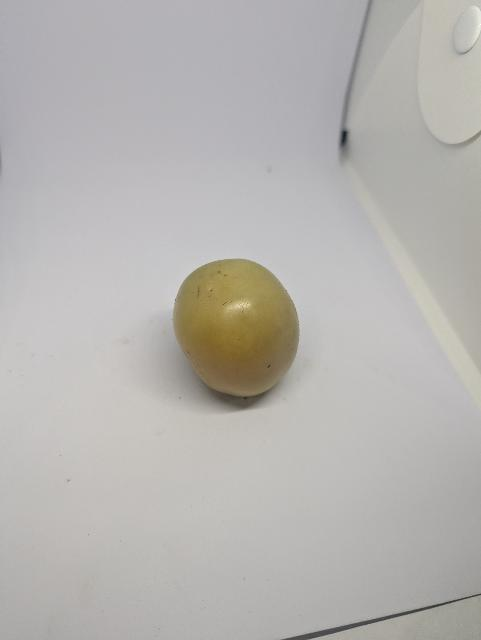breaker: (172, 258, 311, 402)
